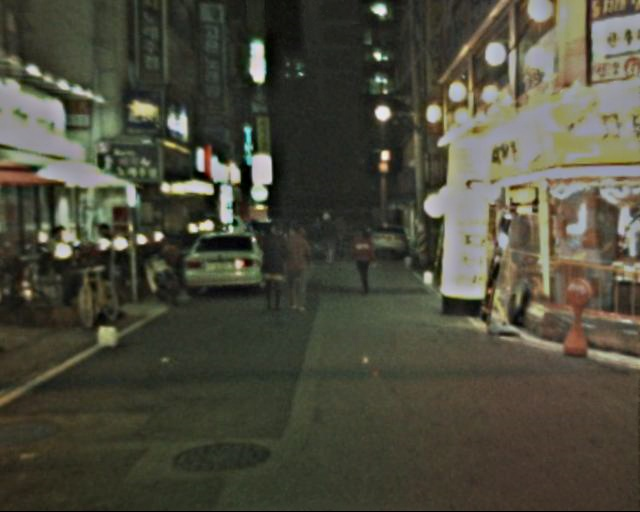person: (282, 224, 320, 322), (258, 224, 292, 323), (316, 208, 343, 271), (352, 228, 380, 287)
